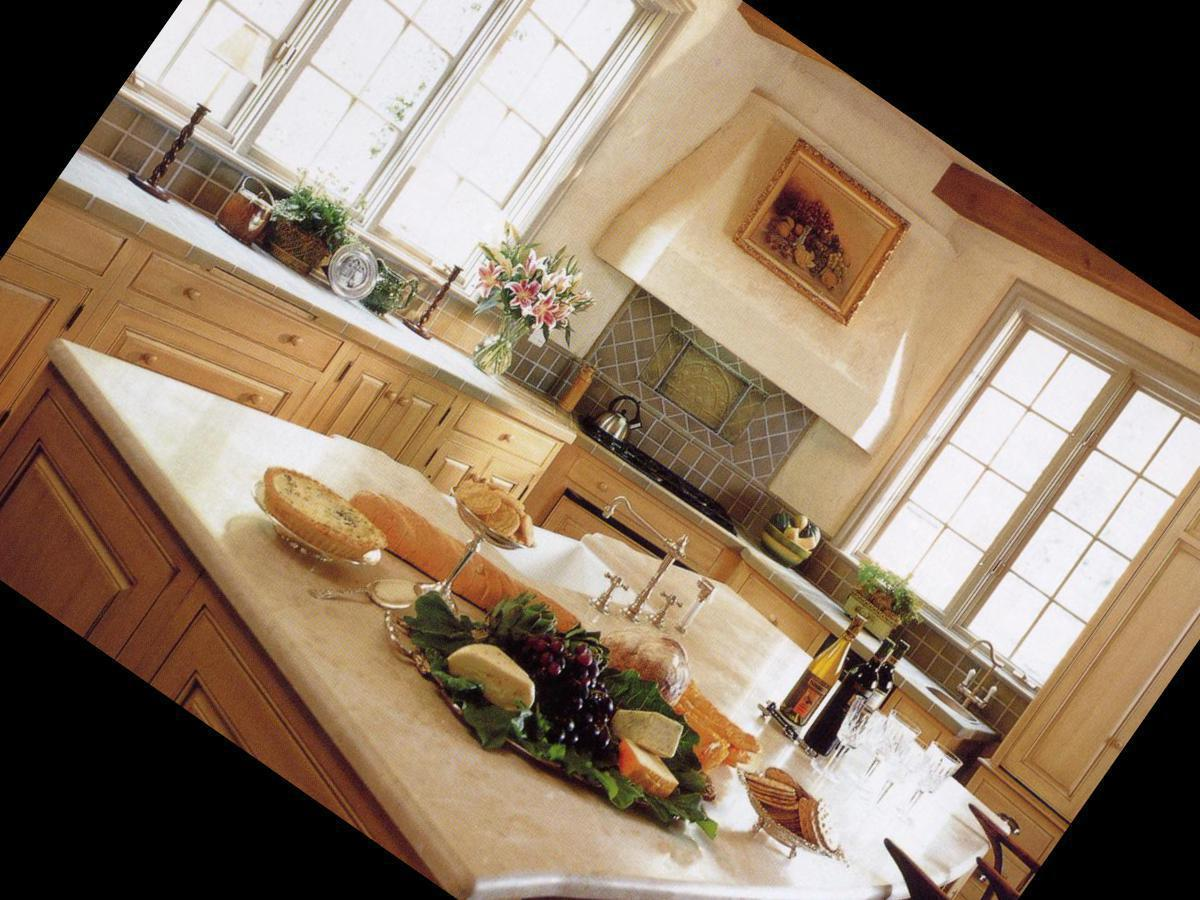Lavaplatos: (416, 387, 750, 685)
